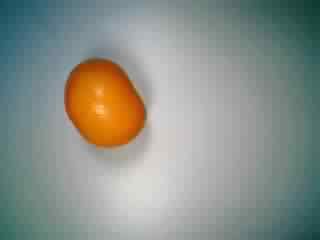orange: (61, 56, 148, 150)
